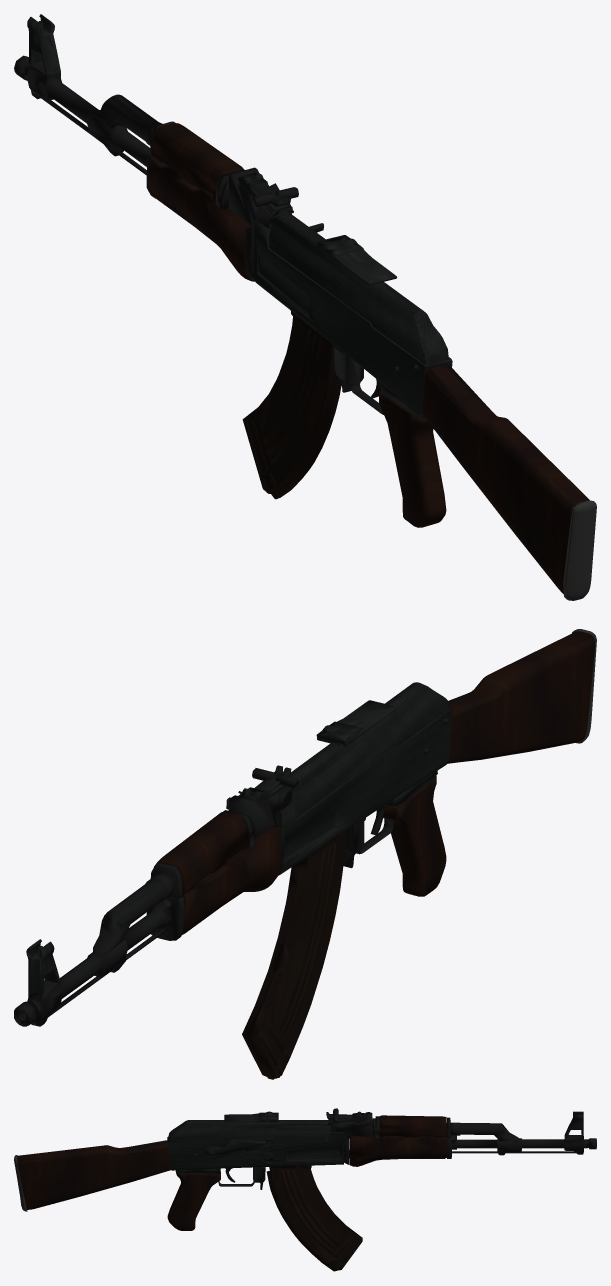
The model's file is ak47-world.glb.
3 views of the same model, one above another, from view 1: azimuth 30°, elevation 25°; view 2: azimuth 150°, elevation 25°; view 3: azimuth 270°, elevation 25° (orthographic). The views are drawn at different scales.
Parts seen in each view (by area): view 1: ReceiverGeometry, StockWoodGeometry, FurnitureGeometry, MagazineGeometry, WeaponBodyGeometry, StockButtpadGeometry, OpticRailAdapterGeometry, FrontIronGeometry, RearIronGeometry; view 2: ReceiverGeometry, StockWoodGeometry, FurnitureGeometry, WeaponBodyGeometry, MagazineGeometry, OpticRailAdapterGeometry, FrontIronGeometry, RearIronGeometry; view 3: StockWoodGeometry, ReceiverGeometry, FurnitureGeometry, MagazineGeometry, WeaponBodyGeometry, ChargingHandleGeometry, BoltHardwareGeometry, OpticRailAdapterGeometry, FrontIronGeometry, RearIronGeometry, StockButtpadGeometry.
Boxes of the visible parts, x1=… form: ReceiverGeometry: x1=254, y1=211, x2=452, y2=416; StockWoodGeometry: x1=422, y1=365, x2=589, y2=593; FurnitureGeometry: x1=148, y1=123, x2=446, y2=527; MagazineGeometry: x1=242, y1=311, x2=341, y2=499; WeaponBodyGeometry: x1=14, y1=55, x2=424, y2=417; StockButtpadGeometry: x1=563, y1=500, x2=596, y2=600; OpticRailAdapterGeometry: x1=316, y1=235, x2=397, y2=284; FrontIronGeometry: x1=27, y1=14, x2=60, y2=75; RearIronGeometry: x1=238, y1=173, x2=291, y2=211; ReceiverGeometry: x1=279, y1=682, x2=452, y2=875; StockWoodGeometry: x1=447, y1=631, x2=595, y2=763; FurnitureGeometry: x1=153, y1=775, x2=446, y2=934; WeaponBodyGeometry: x1=14, y1=718, x2=448, y2=1026; MagazineGeometry: x1=242, y1=830, x2=346, y2=1079; OpticRailAdapterGeometry: x1=316, y1=700, x2=397, y2=746; FrontIronGeometry: x1=26, y1=939, x2=60, y2=994; RearIronGeometry: x1=238, y1=765, x2=291, y2=804; StockWoodGeometry: x1=17, y1=1140, x2=171, y2=1209; ReceiverGeometry: x1=167, y1=1120, x2=343, y2=1170; FurnitureGeometry: x1=167, y1=1115, x2=446, y2=1230; MagazineGeometry: x1=266, y1=1165, x2=362, y2=1271; WeaponBodyGeometry: x1=174, y1=1108, x2=596, y2=1189; ChargingHandleGeometry: x1=223, y1=1125, x2=330, y2=1144; BoltHardwareGeometry: x1=204, y1=1118, x2=372, y2=1158; OpticRailAdapterGeometry: x1=224, y1=1111, x2=278, y2=1122; FrontIronGeometry: x1=564, y1=1111, x2=583, y2=1138; RearIronGeometry: x1=326, y1=1111, x2=365, y2=1121; StockButtpadGeometry: x1=14, y1=1155, x2=27, y2=1211.
Size of the model in its own units: 0.1081 by 0.5269 by 1.76.
Materials: 7 (6 with a texture image).
